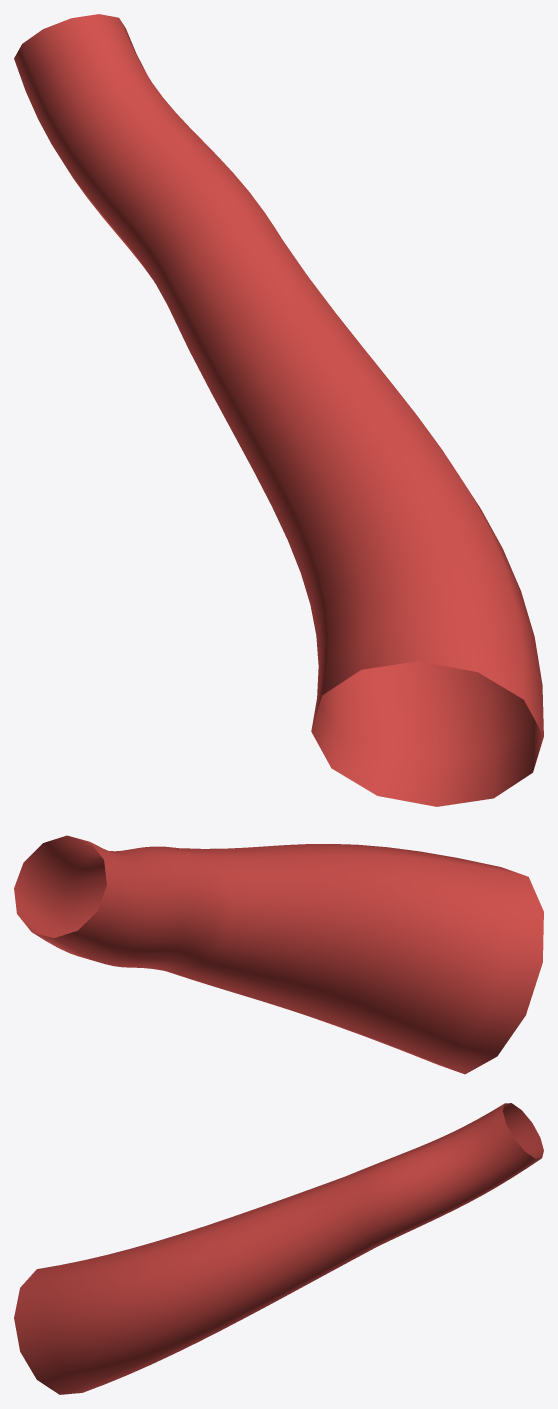
The picture shows the model from 3 angles, top to bottom: view 1: azimuth 30°, elevation 25°; view 2: azimuth 150°, elevation 25°; view 3: azimuth 270°, elevation 25°; orthographic projection. The views are drawn at different scales.
Visible parts, largest first — view 1: 左侧髂内动脉; view 2: 左侧髂内动脉; view 3: 左侧髂内动脉.
Part boxes in pixels (x1,y1,x2,y2): 左侧髂内动脉: (14, 14, 543, 806); 左侧髂内动脉: (14, 835, 543, 1074); 左侧髂内动脉: (14, 1103, 543, 1394).
Bounding box in the file's own units: 0.0203 × 0.0428 × 0.0706.
